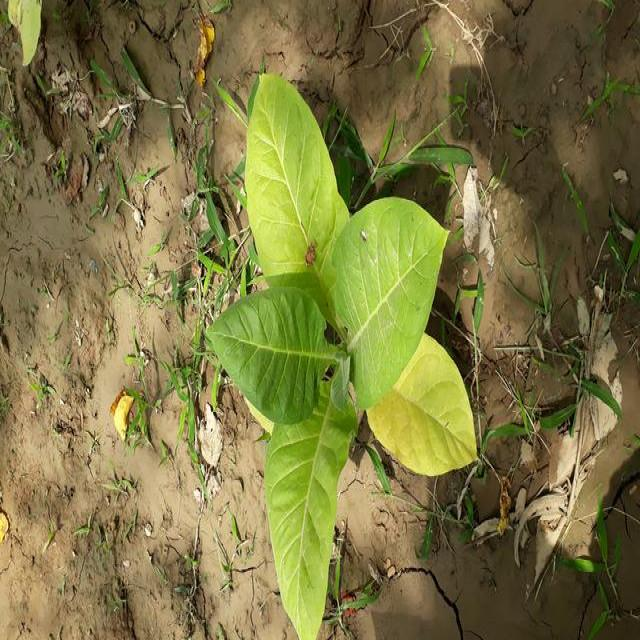crop: (210, 73, 476, 640)
